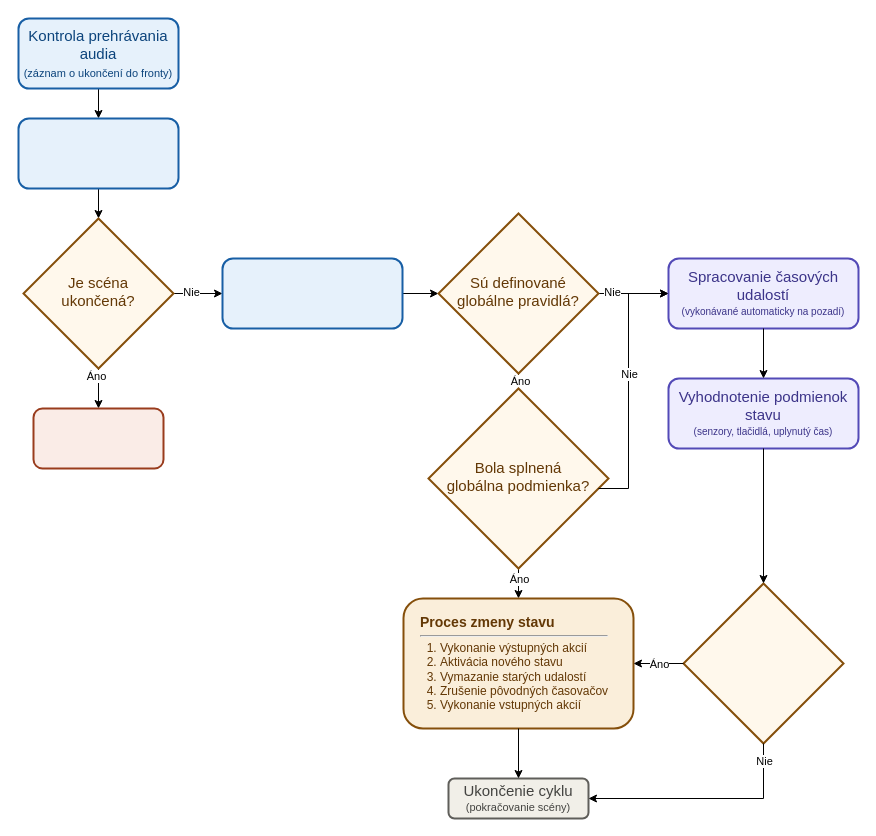
Some shapes in this 876 by 836 pixel diagram are drawn without their labels. Each missing label, with the centre of its shape:
"Je čas prejsť do nového stavu?" goes at [763,663].
"Kontrola prehrávania videa (záznam o ukončení do fronty)" goes at [98,153].
"Načítanie definície stavu (pravidlá a akcie pre aktuálny krok)" goes at [312,293].
"Ukončenie slučky (zastavenie procesu)" goes at [98,438].
